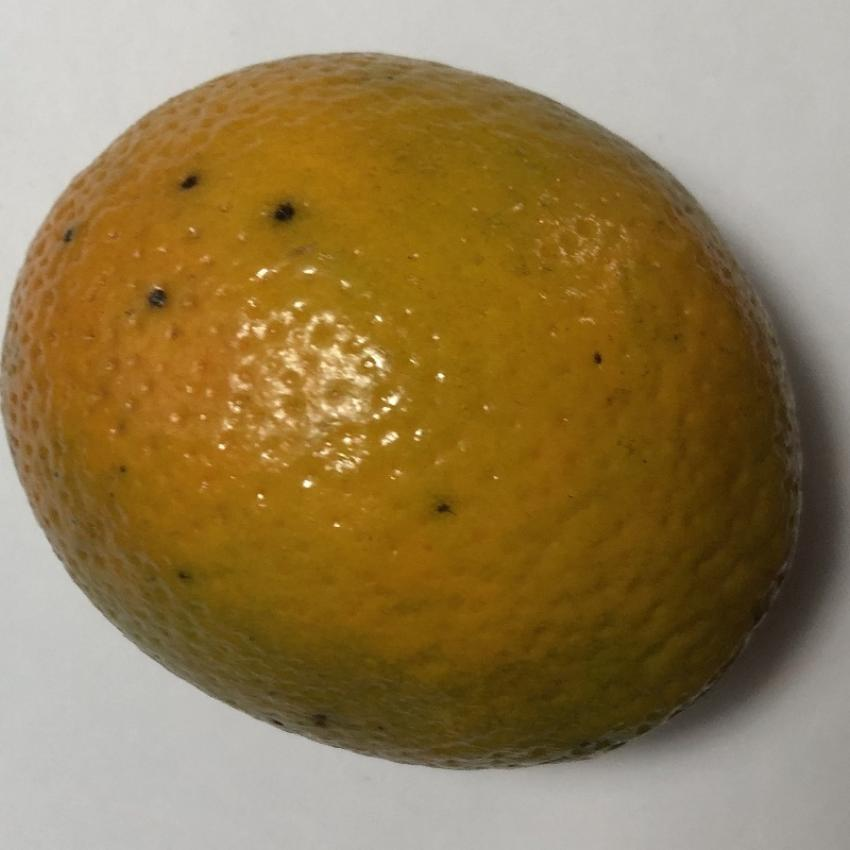Mal estado: (0, 44, 822, 786)
